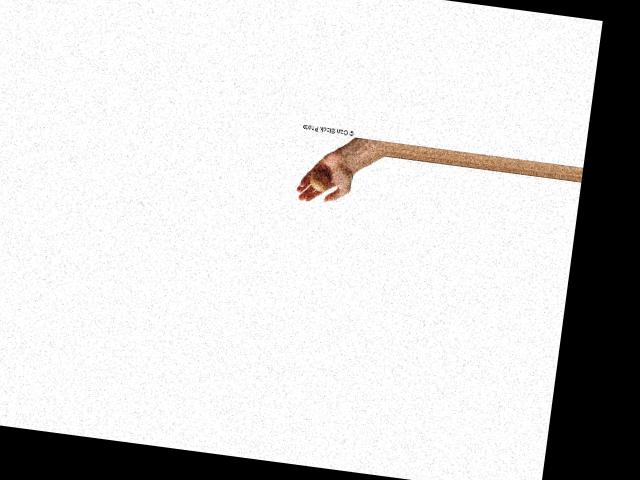egg: (307, 170, 329, 191)
